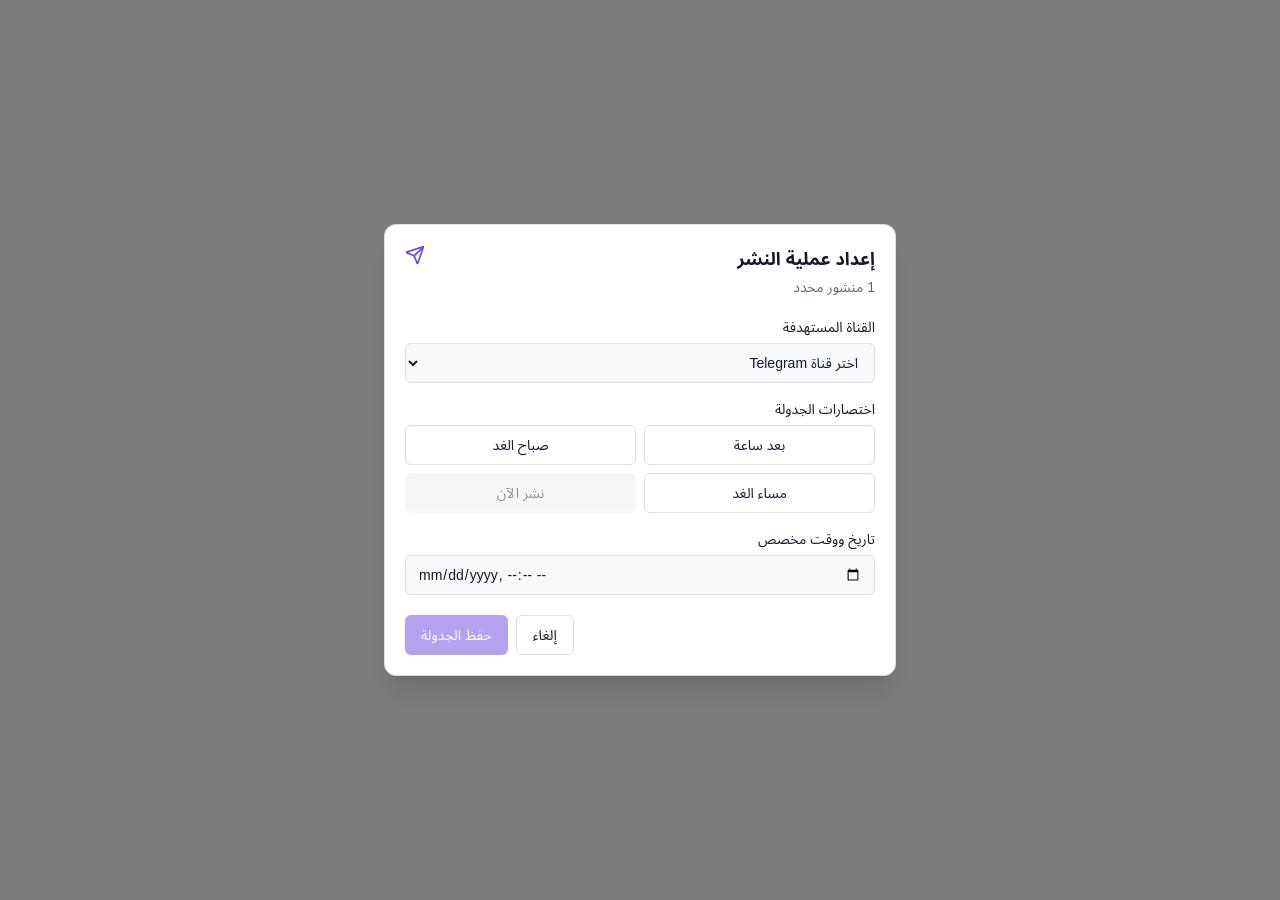
Test: QueueSchedulingDialog › shows a missing scheduledAt error and does not submit
Step 1. Select "قناة الاختبار" in the dropdown labelled "القناة المستهدفة" → (640, 363), box 405,343 -> 875,383
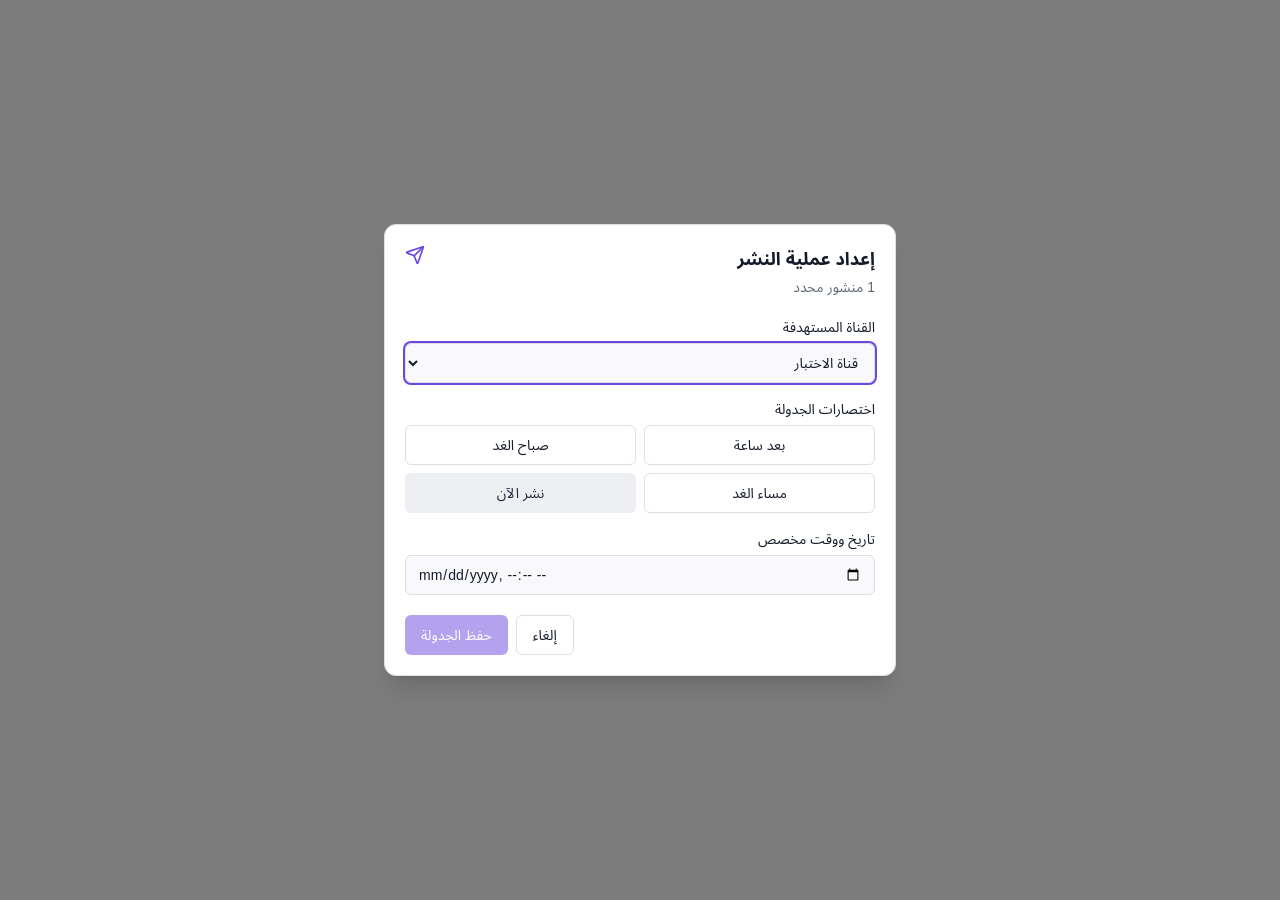
Step 2. Leave the field labelled "تاريخ ووقت مخصص", box 405,555 -> 875,595
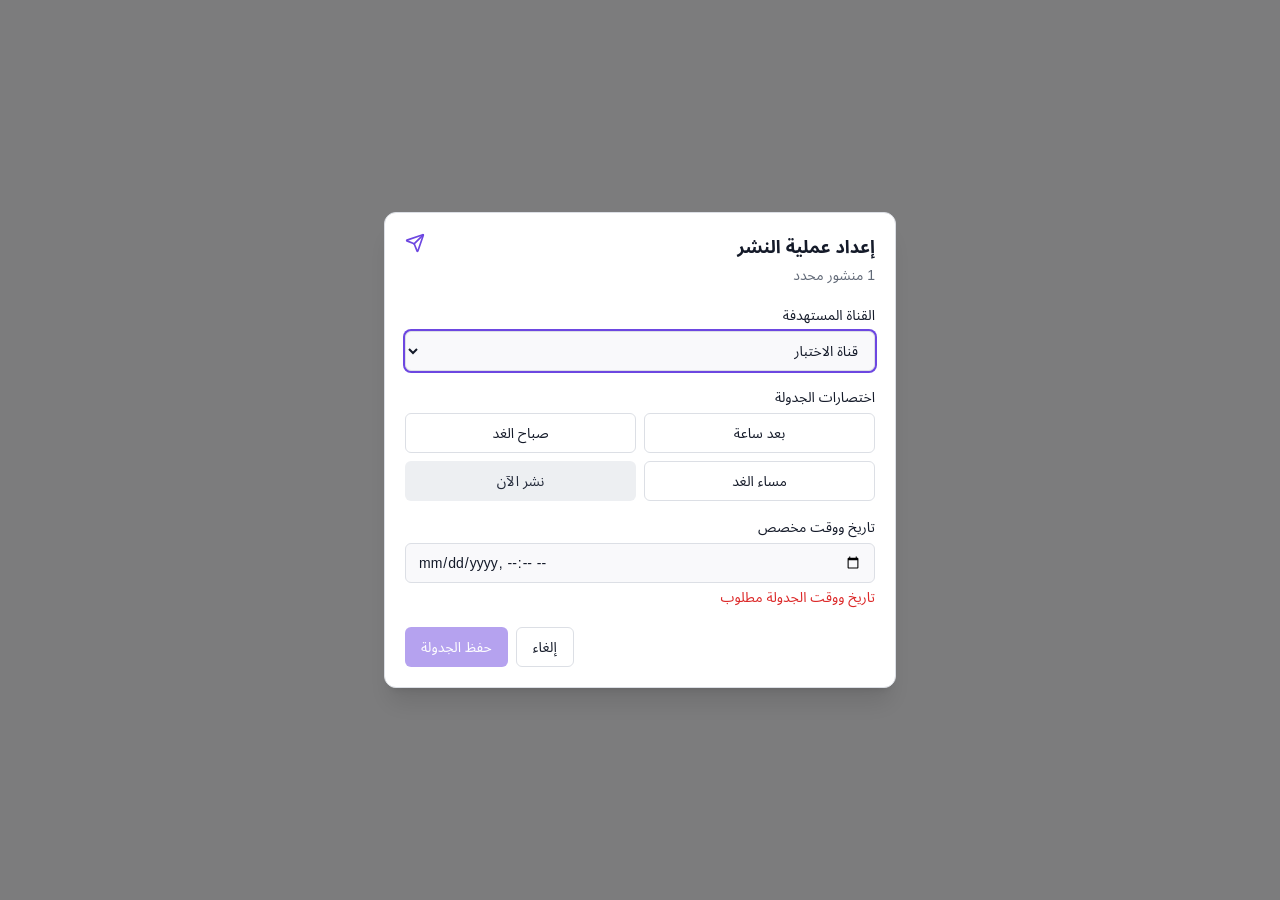
Expected: the button "حفظ الجدولة" is disabled, 405,627 -> 508,667
Result: the text "تاريخ ووقت الجدولة مطلوب" is shown at 720,589 -> 875,605
